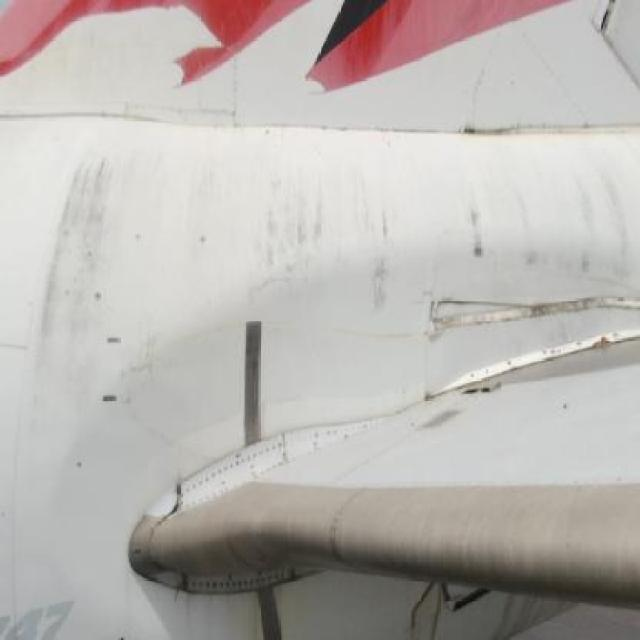Missing-Rivet: (173, 432, 302, 506), (181, 563, 319, 609), (324, 479, 368, 572)
Rust: (182, 136, 404, 319), (444, 144, 638, 288), (36, 144, 142, 396), (487, 586, 562, 639), (403, 572, 454, 636), (450, 102, 522, 140)
Scartch: (113, 319, 182, 416), (427, 295, 568, 339)
